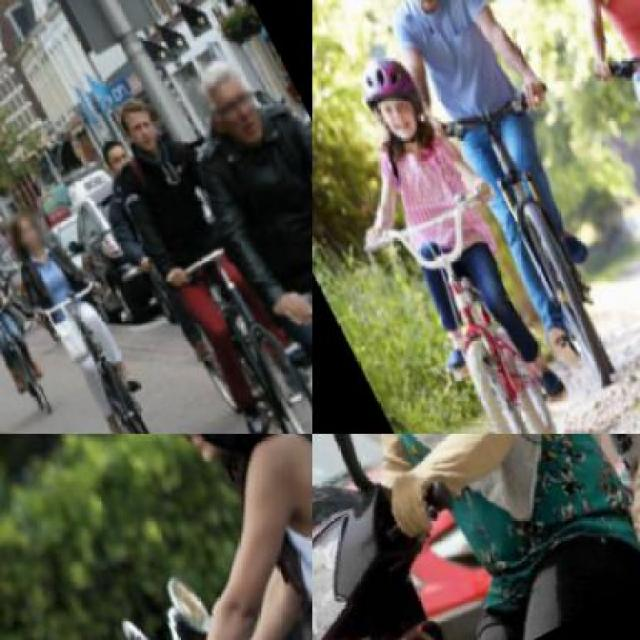With Helmet: (72, 434, 312, 492), (346, 40, 442, 149)
Without Helmet: (182, 49, 275, 154), (109, 83, 178, 162), (0, 200, 58, 261)
